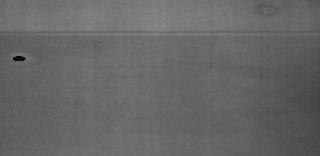punching hole: (9, 53, 29, 64)
welding line: (1, 27, 320, 38)
